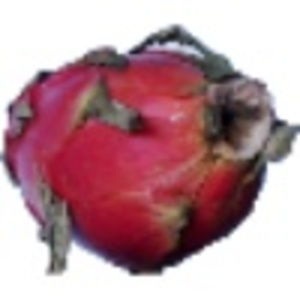pitaia: (1, 23, 300, 277)
